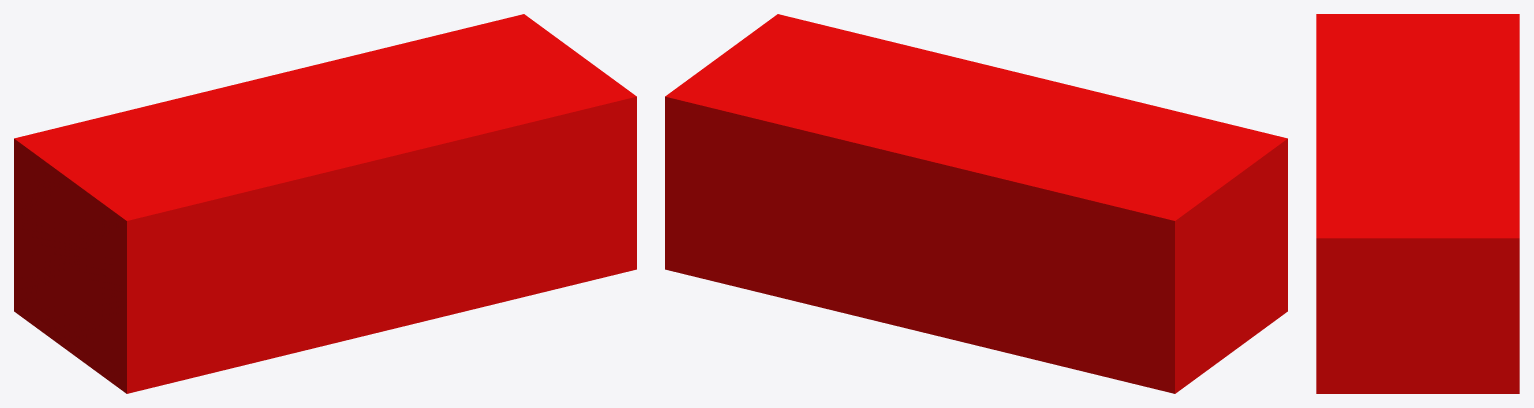
File: metatarsal5_lv_col.dae
3 renders of one model, left to right at view 1: azimuth 30°, elevation 25°; view 2: azimuth 150°, elevation 25°; view 3: azimuth 270°, elevation 25°, orthographic. The views are drawn at different scales.
Visible parts, largest first — view 1: node0; view 2: node0; view 3: node0.
Part boxes in pixels (left/top/right/bottom): node0: left=14, top=14, right=636, bottom=393; node0: left=665, top=14, right=1287, bottom=393; node0: left=1316, top=14, right=1519, bottom=393.
Size of the model in its own units: 0.0688 by 0.0223 by 0.0263.
